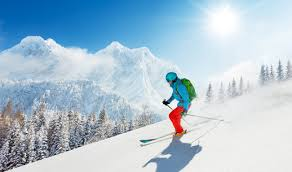skis: (141, 124, 193, 144)
